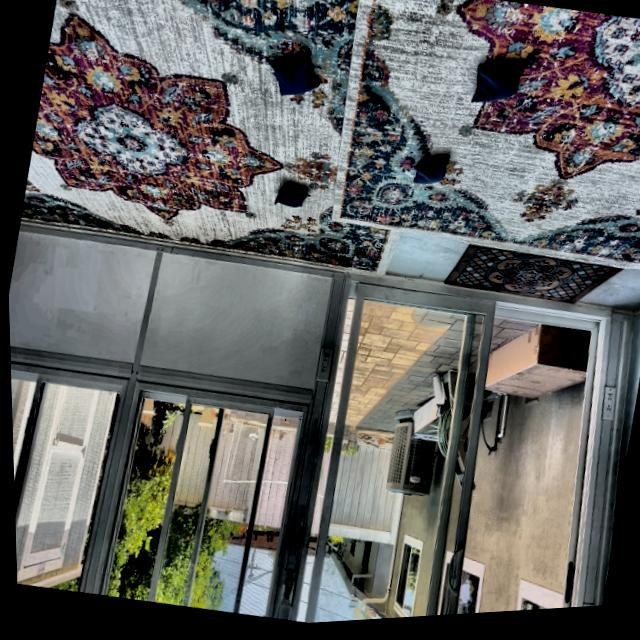blue-bean-bag: (260, 52, 323, 108), (468, 60, 524, 119), (409, 151, 451, 197), (271, 184, 310, 216)
